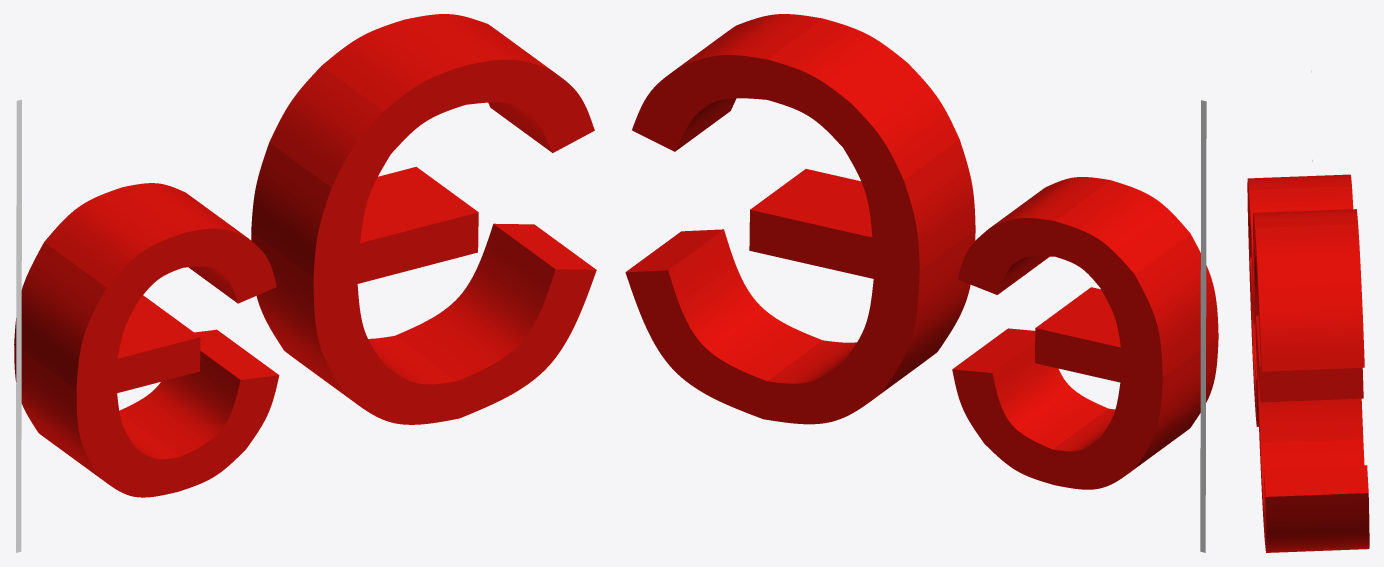
3 views of the same model, side by side, from view 1: azimuth 30°, elevation 25°; view 2: azimuth 150°, elevation 25°; view 3: azimuth 270°, elevation 25° (orthographic). The views are drawn at different scales.
Visible parts, largest first — view 1: Mesh_0.034, Плоскость; view 2: Mesh_0.034, Плоскость; view 3: Mesh_0.034.
Boxes of the visible parts, bbox=[...] form: Mesh_0.034: bbox=[14, 14, 596, 497]; Плоскость: bbox=[16, 99, 21, 552]; Mesh_0.034: bbox=[625, 14, 1218, 489]; Плоскость: bbox=[1200, 100, 1206, 552]; Mesh_0.034: bbox=[1247, 174, 1369, 552].
Bounding box in the file's own units: 12.01 × 9.38 × 2.64.
